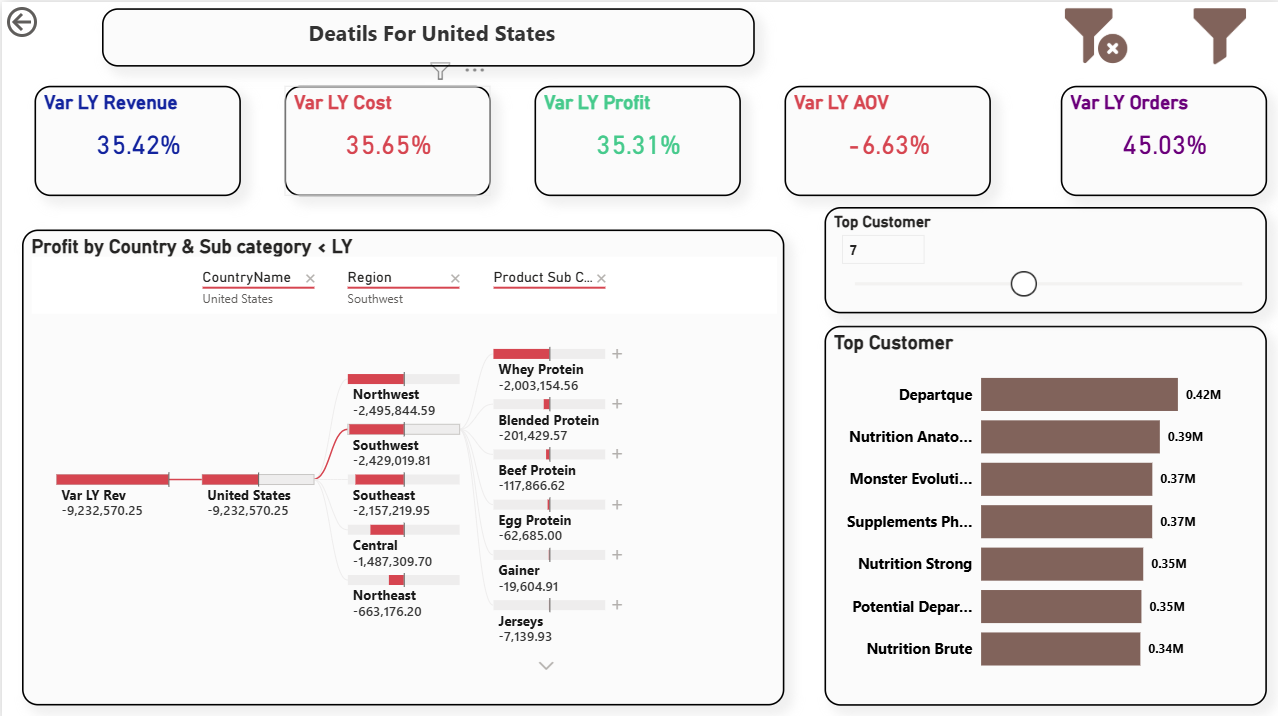

The page's visual inventory and layout, read from the dashboard file:
{"tool":"powerbi","page":{"name":"Details","canvas":[1280,720],"ordinal":6},"visuals":[{"type":"card","title":"Var LY Revenue","fields":{"Values":["Calculation.%Var LY Rev"]},"box":[32.5,83.8,206.2,110],"z":0},{"type":"decompositionTreeVisual","title":"Profit by Country & Sub category < LY","fields":{"ExplainBy":["Customer.CountryName","Customer.Region","Product.Product Sub Category","Customer.CityName"],"Analyze":["Calculation.Var LY Rev"]},"box":[20,227.5,762.5,476.2],"z":1000},{"type":"clusteredBarChart","title":"Top Customer","fields":{"Category":["Customer.Customer"],"Y":["Customer.Top Customer"]},"box":[822.5,323.8,442.5,380],"z":4000},{"type":"image","box":[1032.9,2.5,123.5,62.4],"z":5000},{"type":"image","box":[1156.5,6.4,123.5,56],"z":6000},{"type":"card","title":"Var LY Cost","fields":{"Values":["Calculation.%Var LY Cost"]},"box":[282.5,83.8,206.2,110],"z":8000},{"type":"card","title":"Var LY Profit","fields":{"Values":["Calculation.%Var LY Profit"]},"box":[532.5,83.8,206.2,110],"z":9000},{"type":"card","title":"Var LY Orders","fields":{"Values":["Calculation.%Var LY Orders"]},"box":[1058.8,83.8,206.2,110],"z":10000},{"type":"card","title":"Var LY AOV","fields":{"Values":["Calculation.%Var LY -AOV-"]},"box":[782.5,83.8,206.2,110],"z":11000},{"type":"slicer","title":"Top Customer","fields":{"Values":["Parameter - Top Customer -.Parameter - Top Customer -"]},"box":[822.5,205,442.5,106.2],"z":11501},{"type":"actionButton","box":[0,0,77.5,40],"z":11502},{"type":"actionButton","box":[100,6.2,652.5,58.8],"z":11503}]}

Visuals, with their boxes in screenshot pixels (x1, y1, x2, y2), scaled from the page's 1280x720 canvas onto the 1278x716 screenshot:
"Var LY Revenue" card: bbox=[32, 83, 238, 193]
"Profit by Country & Sub category < LY" decompositionTreeVisual: bbox=[20, 226, 781, 700]
"Top Customer" clusteredBarChart: bbox=[821, 322, 1263, 700]
image: bbox=[1031, 2, 1155, 65]
image: bbox=[1155, 6, 1277, 62]
"Var LY Cost" card: bbox=[282, 83, 488, 193]
"Var LY Profit" card: bbox=[532, 83, 738, 193]
"Var LY Orders" card: bbox=[1057, 83, 1263, 193]
"Var LY AOV" card: bbox=[781, 83, 987, 193]
"Top Customer" slicer: bbox=[821, 204, 1263, 309]
actionButton: bbox=[0, 0, 77, 40]
actionButton: bbox=[100, 6, 751, 65]
